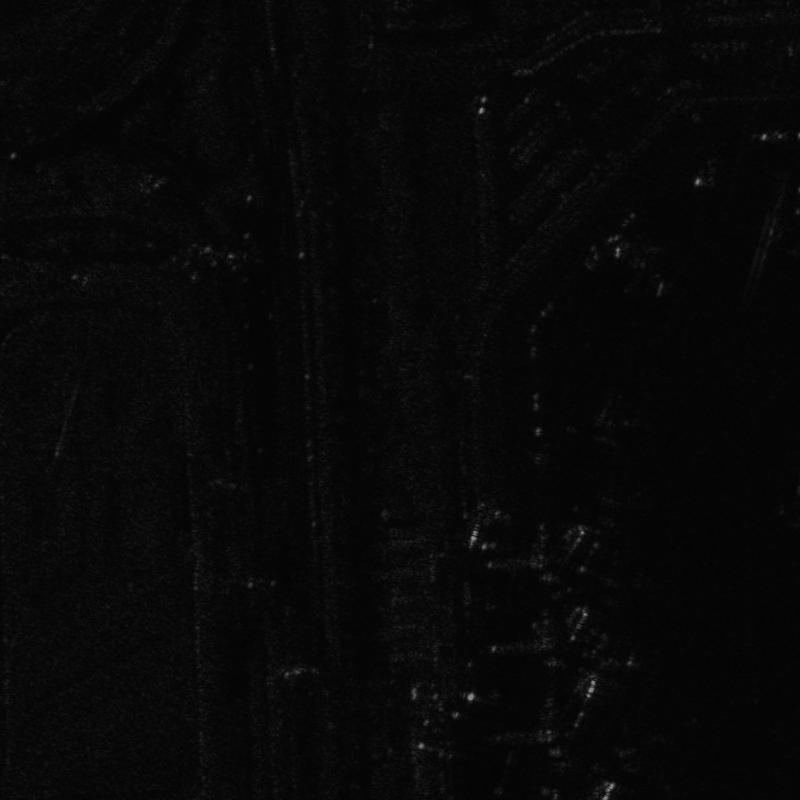A220: (615, 706, 715, 796), (557, 391, 645, 452), (612, 239, 679, 300)
